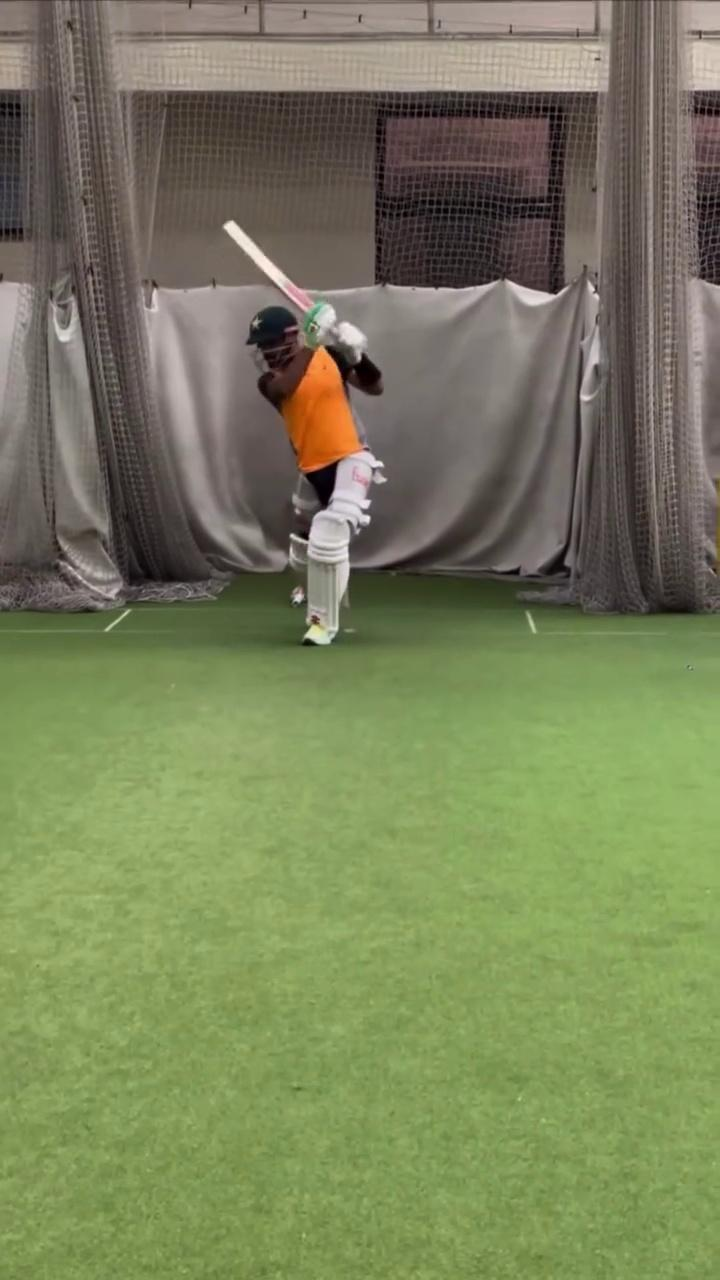bat: (220, 215, 316, 315)
